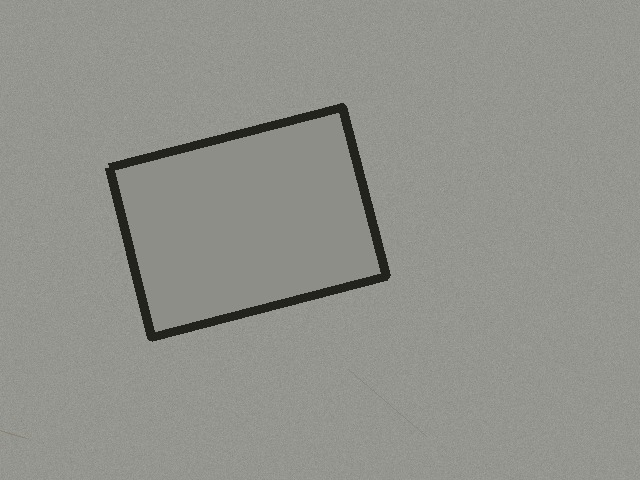parking_area: (109, 107, 386, 337)
